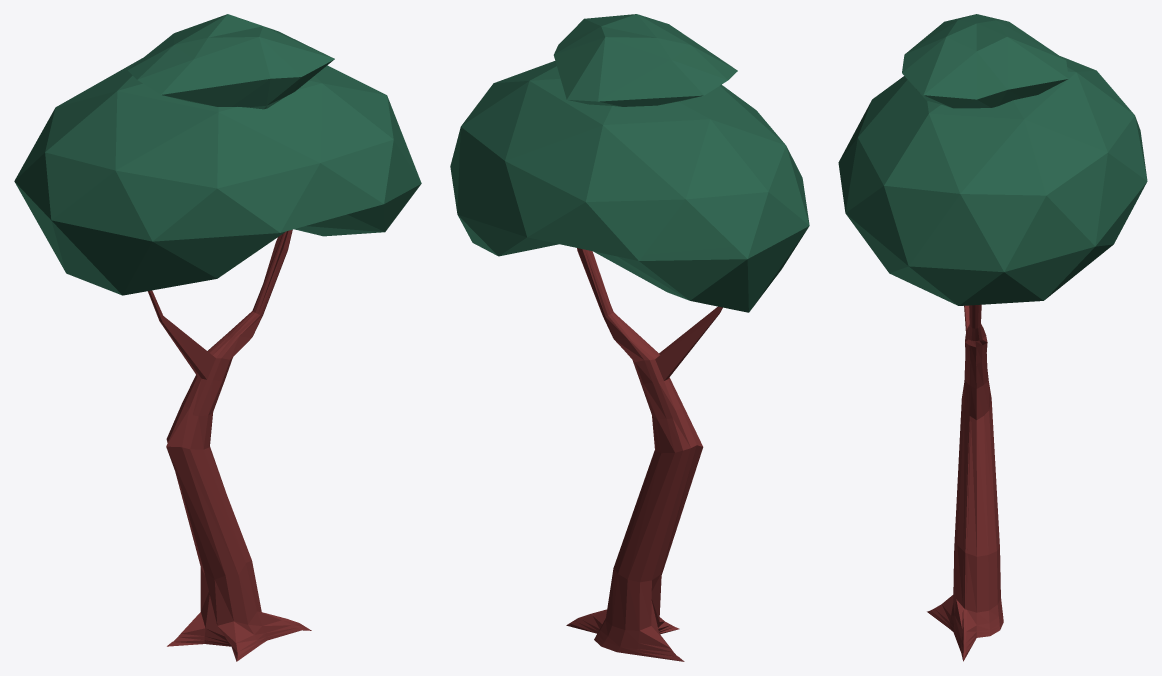
Rendered from tree_06.FBX.
3 renders of one model, left to right at view 1: azimuth 30°, elevation 25°; view 2: azimuth 150°, elevation 25°; view 3: azimuth 270°, elevation 25°, orthographic. The views are drawn at different scales.
Parts seen in each view (by area): view 1: tree_06; view 2: tree_06; view 3: tree_06.
Part boxes in pixels (x1,y1,x2,y2): tree_06: (14, 14, 421, 661); tree_06: (450, 14, 809, 661); tree_06: (838, 14, 1147, 661).
Size of the model in its own units: 5.86 by 9.99 by 4.7.
1 material, 1 textured.
